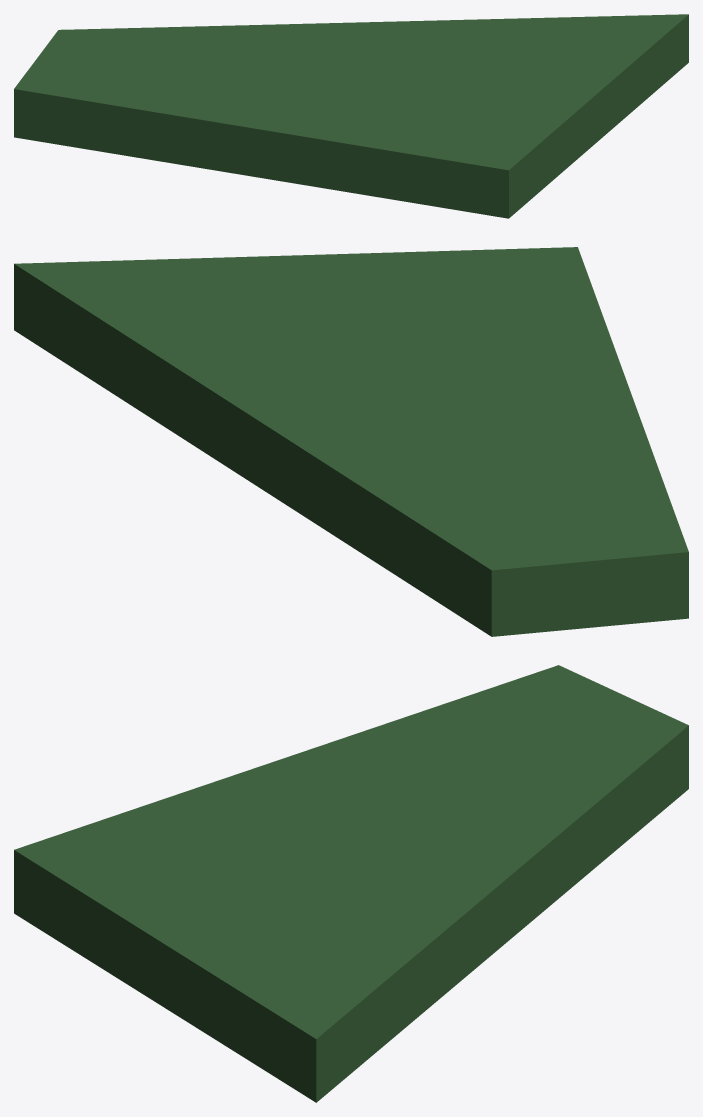
Rendered from x_proval_00_49_1_rmstrd.fbx.
3 renders of one model, top to bottom at view 1: azimuth 30°, elevation 25°; view 2: azimuth 150°, elevation 25°; view 3: azimuth 270°, elevation 25°, orthographic. The views are drawn at different scales.
Parts seen in each view (by area): view 1: x_proval_00_49_1_rmstrd1; view 2: x_proval_00_49_1_rmstrd1; view 3: x_proval_00_49_1_rmstrd1.
Boxes of the visible parts, x1,y1,x2,y2 form: x_proval_00_49_1_rmstrd1: (14, 14, 688, 218); x_proval_00_49_1_rmstrd1: (14, 247, 688, 636); x_proval_00_49_1_rmstrd1: (14, 665, 688, 1102).
Bounding box in the file's own units: 2.52 × 0.2 × 1.92.
